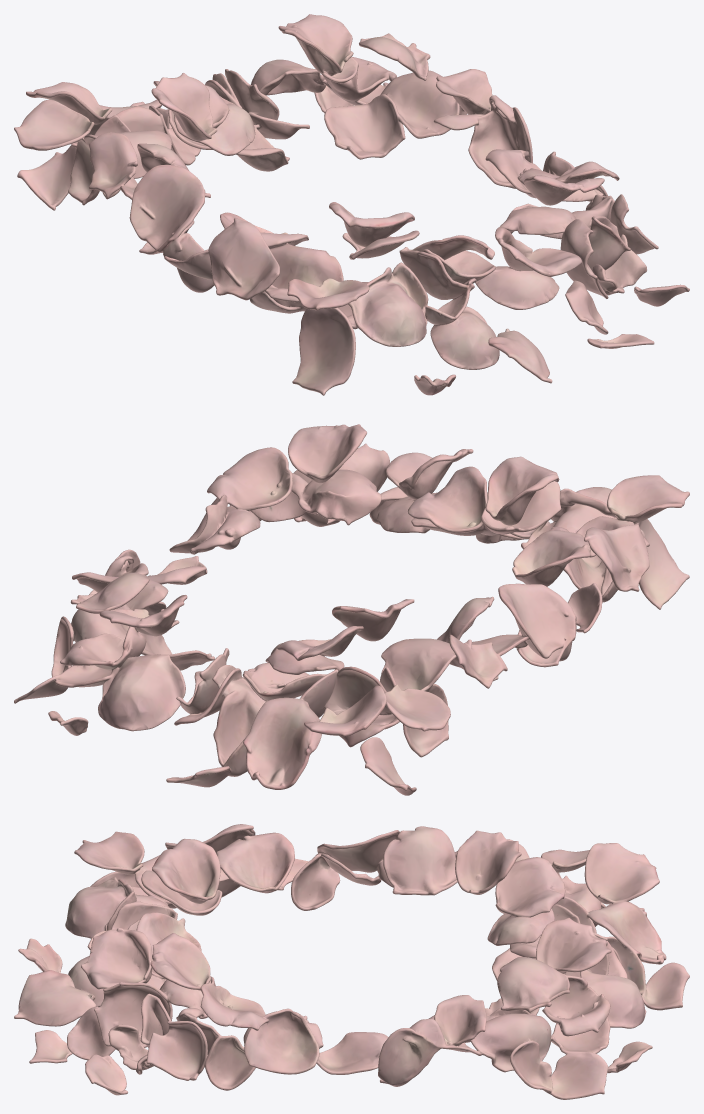
The picture shows the model from 3 angles, top to bottom: view 1: azimuth 30°, elevation 25°; view 2: azimuth 150°, elevation 25°; view 3: azimuth 270°, elevation 25°; orthographic projection. The views are drawn at different scales.
Parts seen in each view (by area): view 1: Object_01; view 2: Object_01; view 3: Object_01.
Part boxes in pixels (bbox=[...]): Object_01: bbox=[14, 14, 689, 395]; Object_01: bbox=[14, 424, 689, 795]; Object_01: bbox=[14, 824, 689, 1099].
Bounding box in the file's own units: 0.6519 × 0.2102 × 1.
1 material, 1 textured.
